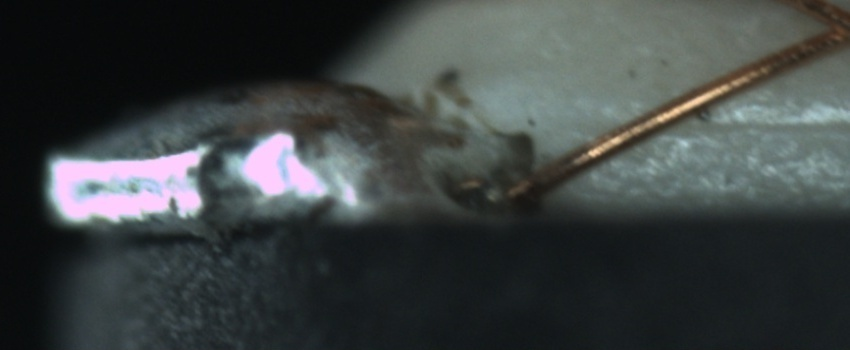CL: (800, 2, 850, 59)
DL: (669, 91, 850, 157)
